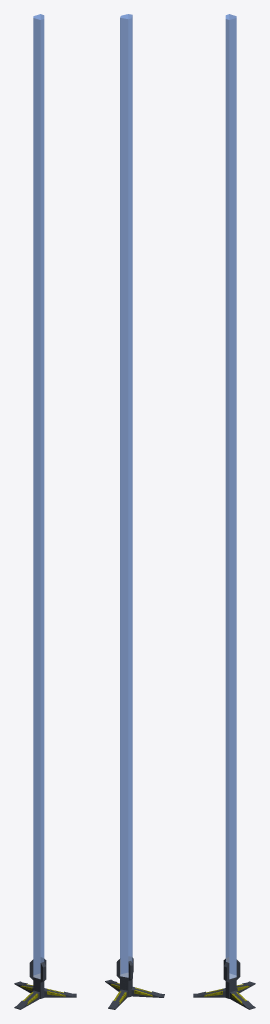
Rendered from Beacon.fbx.
The picture shows the model from 3 angles, left to right: view 1: azimuth 90°, elevation 25°; view 2: azimuth 210°, elevation 25°; view 3: azimuth 270°, elevation 25°; orthographic projection.
Parts seen in each view (by area): view 1: Model; view 2: Model; view 3: Model.
Part boxes in pixels (x1=…): Model: x1=14, y1=14, x2=76, y2=1009; Model: x1=105, y1=14, x2=164, y2=1009; Model: x1=193, y1=14, x2=255, y2=1009.
Size of the model in its own units: 218 by 3582 by 207.
